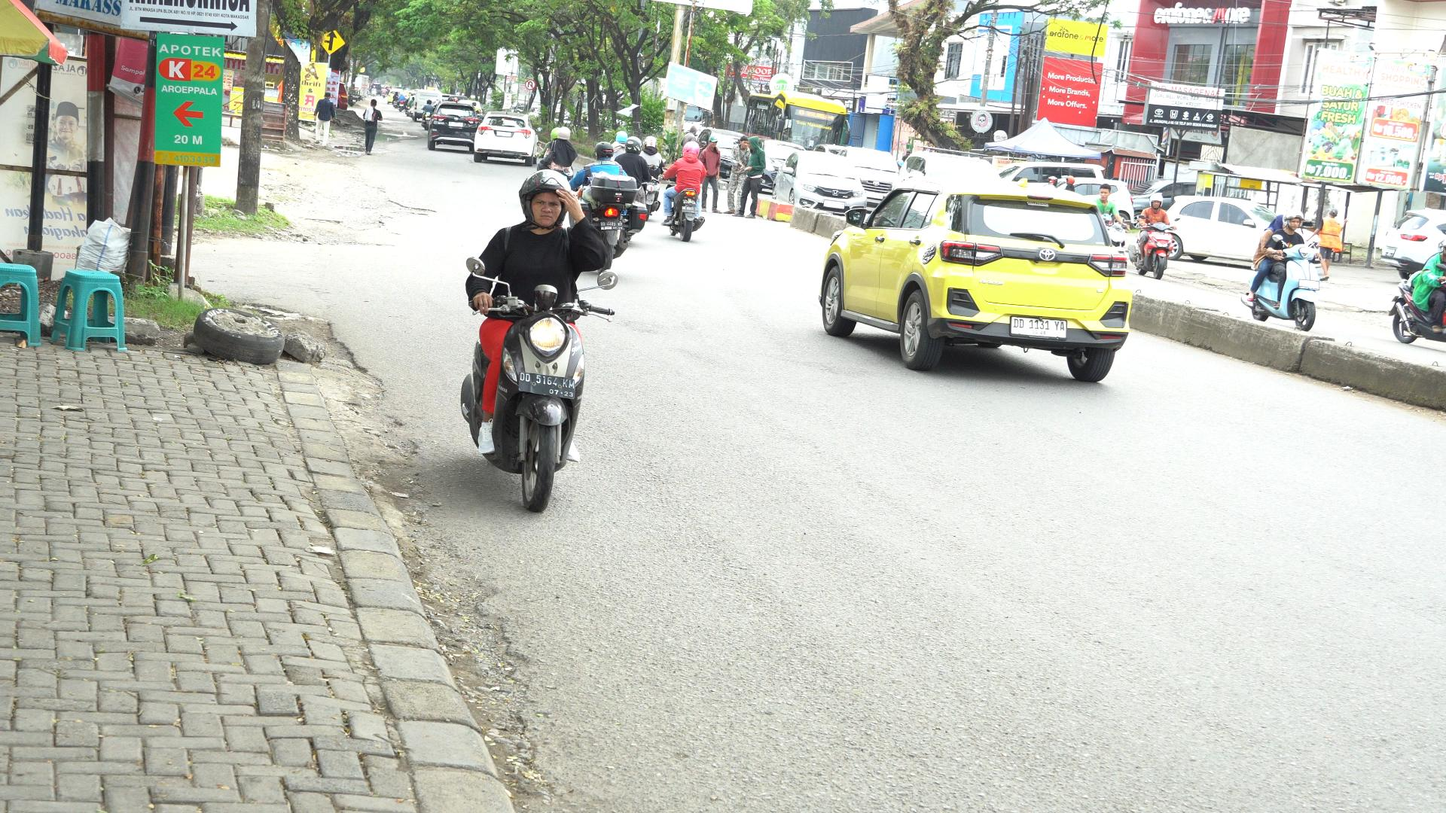number-plate: (520, 370, 582, 402)
